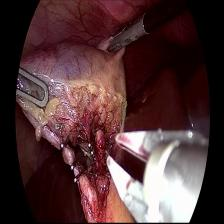Clipper: (103, 123, 204, 224)
Grasper: (12, 66, 50, 108), (108, 16, 146, 54)
